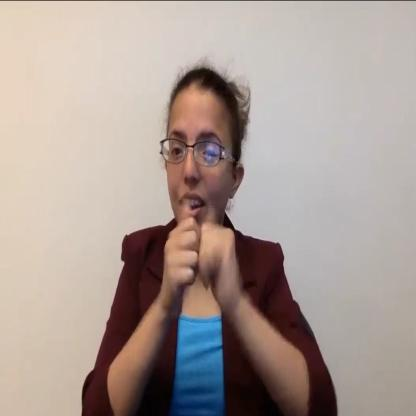HowAreYou: (157, 190, 240, 326)
